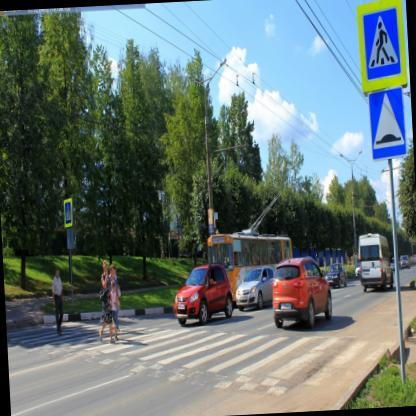road_sign: (357, 0, 405, 93), (369, 89, 404, 158), (63, 195, 72, 228)
